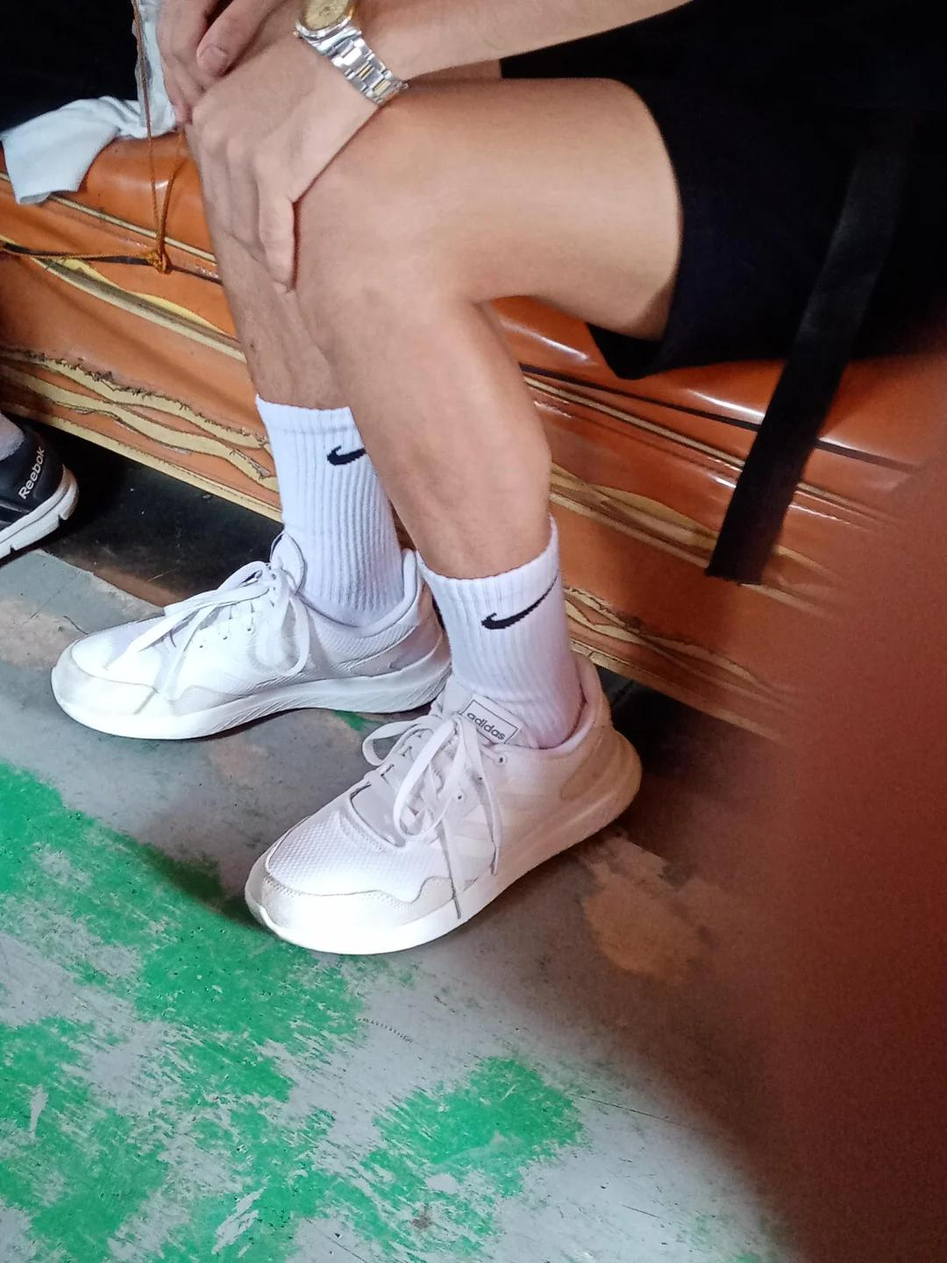adidas logo: (405, 760, 584, 914)
sock logo: (438, 560, 602, 723), (270, 414, 377, 586)
